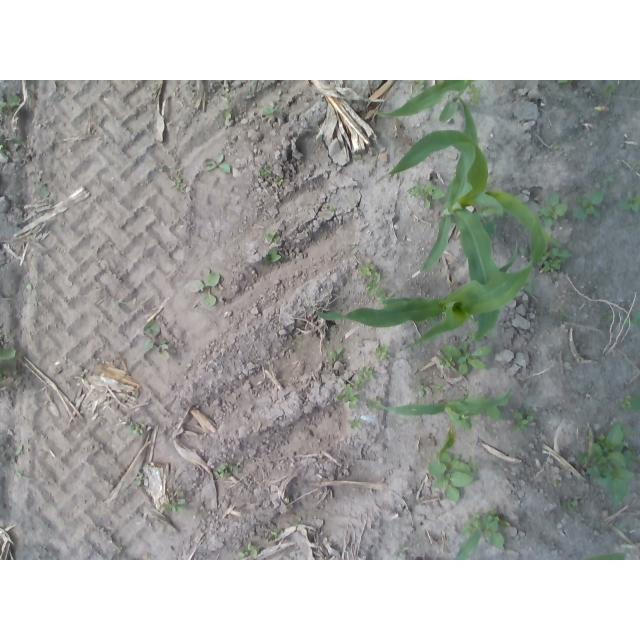Maize: (378, 97, 563, 273), (310, 250, 538, 351), (372, 383, 513, 433), (413, 528, 628, 560), (368, 81, 474, 124)
Weeds: (575, 421, 640, 507), (427, 449, 477, 503), (460, 511, 510, 550), (439, 342, 492, 375), (358, 262, 392, 304), (184, 269, 220, 307), (535, 193, 568, 228), (407, 181, 446, 209), (141, 319, 168, 356), (572, 190, 605, 220), (538, 246, 573, 274), (336, 385, 361, 412), (511, 408, 537, 432), (616, 190, 640, 215), (202, 154, 231, 174), (0, 93, 20, 115), (465, 80, 481, 106), (213, 463, 240, 478), (238, 541, 259, 559), (162, 499, 187, 514), (620, 395, 640, 413), (355, 366, 376, 382), (0, 344, 16, 365), (365, 395, 383, 413), (262, 248, 282, 264), (599, 84, 617, 101), (621, 311, 640, 326), (126, 422, 143, 438), (562, 497, 579, 512), (375, 344, 390, 360), (262, 104, 280, 116), (169, 179, 187, 191), (268, 528, 284, 541), (348, 418, 365, 430), (329, 347, 343, 361), (220, 108, 233, 123), (415, 379, 425, 398), (258, 165, 272, 178), (263, 230, 277, 243), (521, 277, 533, 292), (10, 136, 27, 146), (38, 186, 51, 198), (614, 522, 627, 533), (466, 329, 478, 340), (558, 309, 569, 320), (604, 176, 617, 185), (433, 382, 444, 392), (552, 80, 572, 85), (135, 474, 143, 486), (600, 312, 612, 320), (418, 80, 427, 90), (1, 142, 8, 154), (552, 141, 561, 150), (486, 330, 496, 338), (277, 174, 283, 187), (16, 443, 22, 454), (552, 479, 559, 488), (329, 206, 335, 212)
